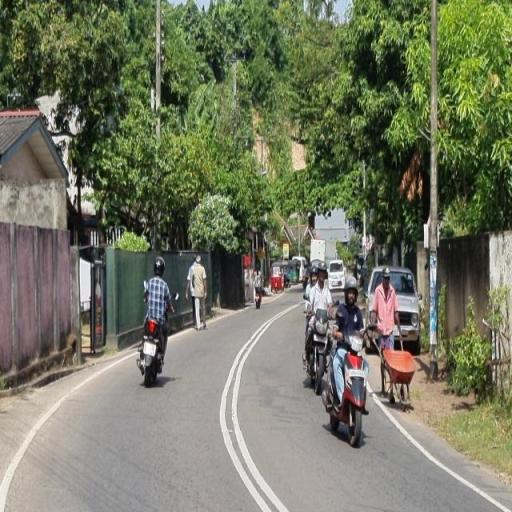double_white_line: (216, 301, 294, 512)
